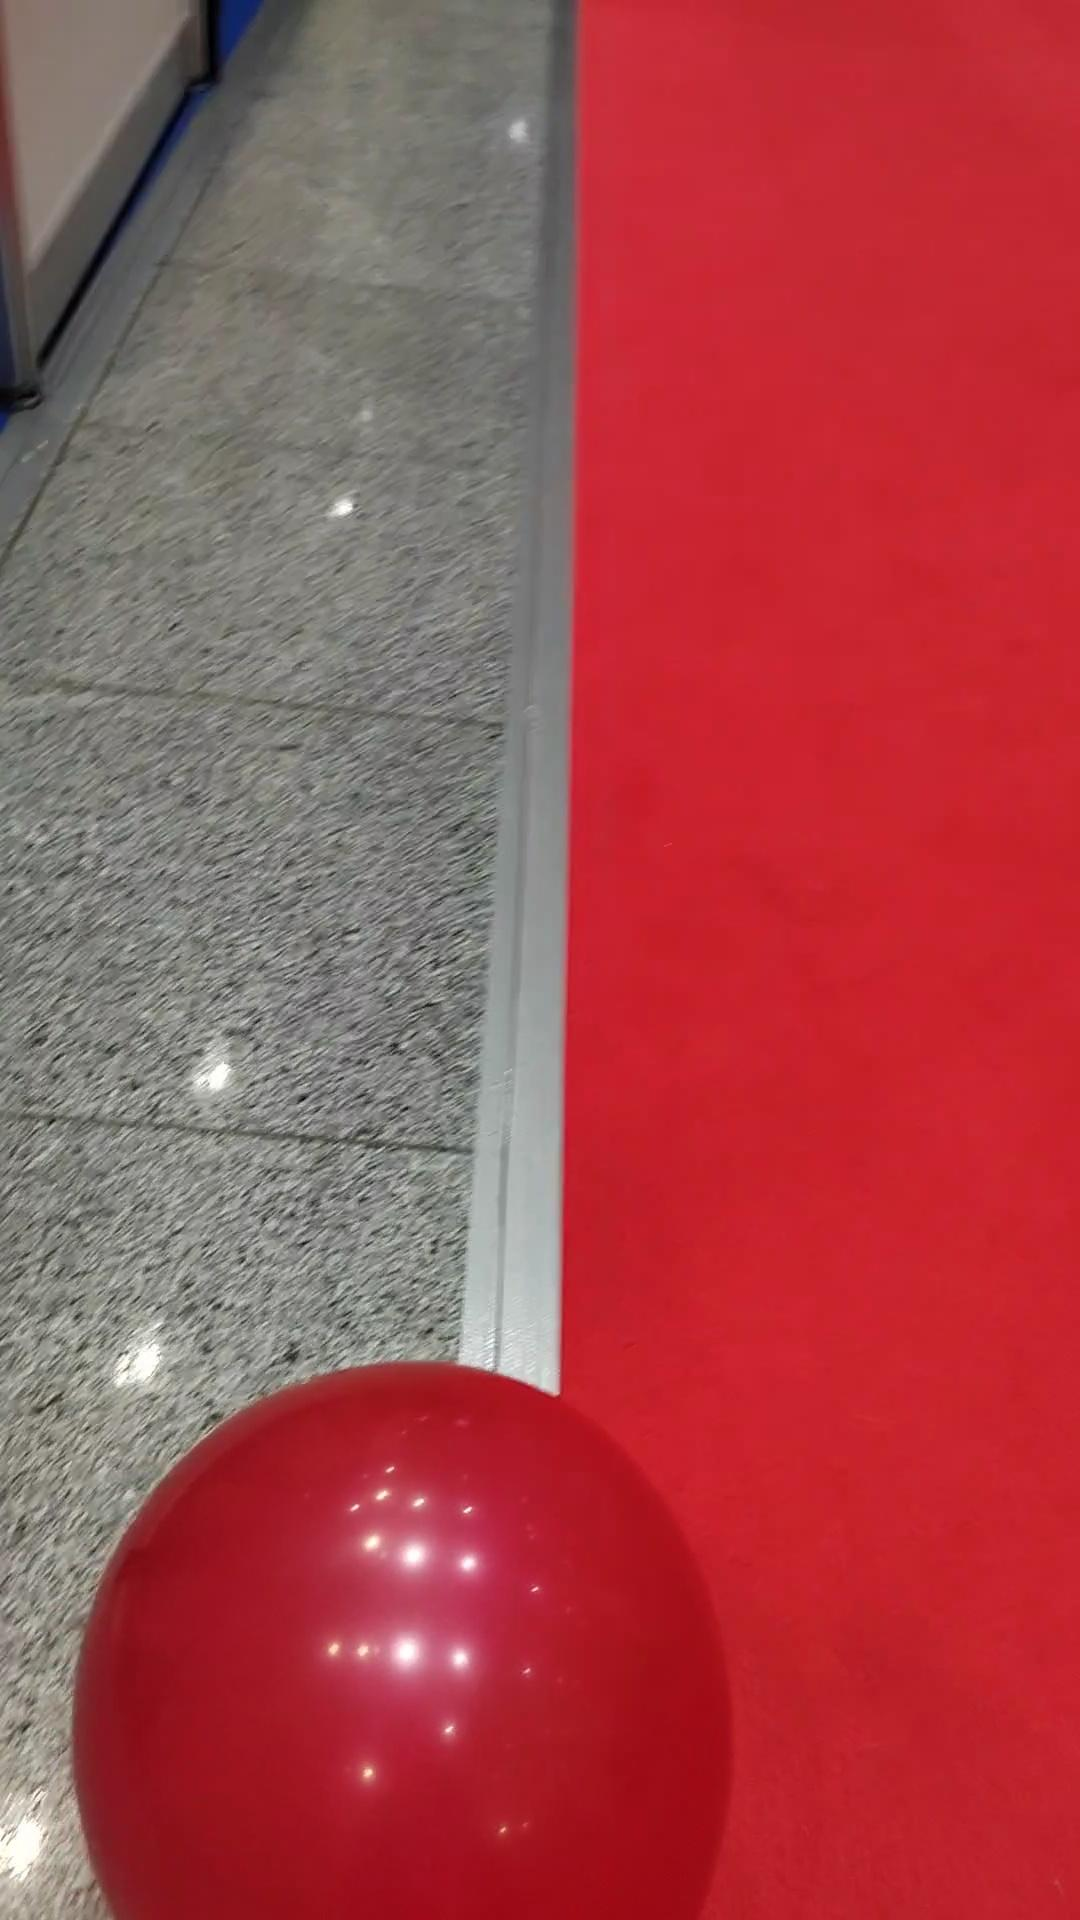red: (69, 1354, 740, 1917)
